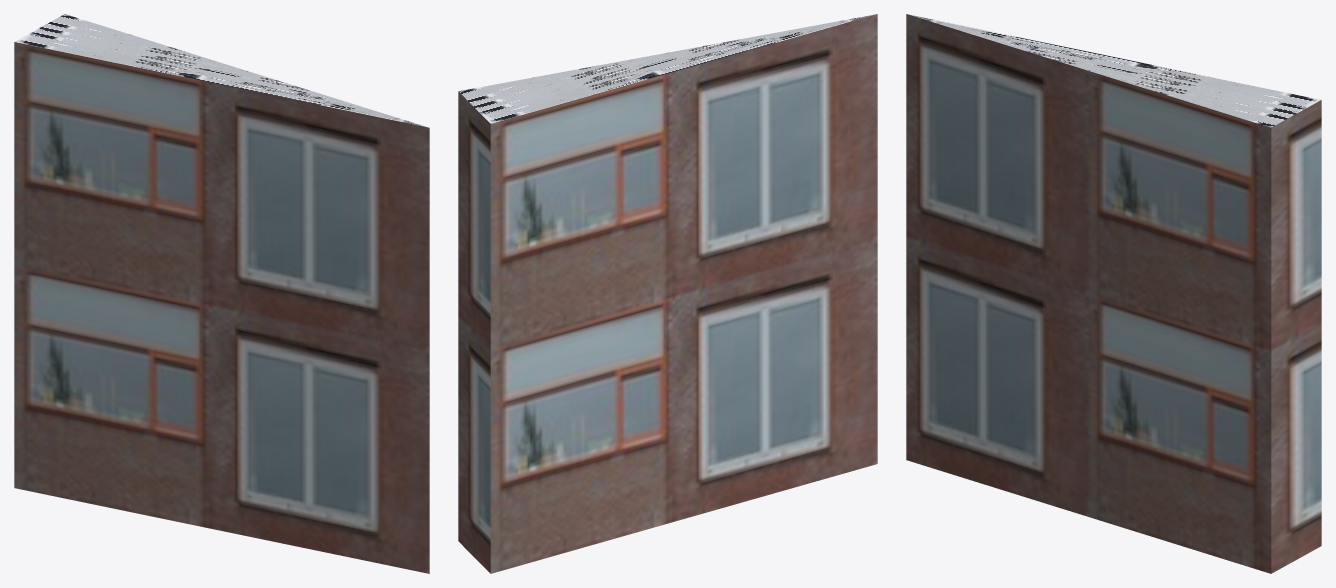
Rendered from ResTex__2973.fbx.
3 views of the same model, side by side, from view 1: azimuth 90°, elevation 25°; view 2: azimuth 150°, elevation 25°; view 3: azimuth 270°, elevation 25° (orthographic).
Visible parts, largest first — view 1: CityEngineMaterial_19_m, CityEngineMaterial_15_m; view 2: CityEngineMaterial_19_m, CityEngineMaterial_15_m; view 3: CityEngineMaterial_19_m, CityEngineMaterial_15_m.
Boxes of the visible parts, box(x1,y1,x2,y2) form: CityEngineMaterial_19_m: box(14, 42, 429, 573); CityEngineMaterial_15_m: box(15, 14, 428, 127); CityEngineMaterial_19_m: box(458, 14, 877, 573); CityEngineMaterial_15_m: box(459, 14, 875, 123); CityEngineMaterial_19_m: box(906, 14, 1321, 573); CityEngineMaterial_15_m: box(908, 14, 1320, 127).
Size of the model in its own units: 3.28 by 6 by 5.06.
Materials: 2 (2 with a texture image).
